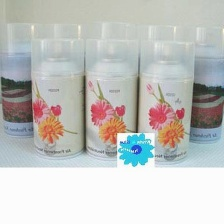aerosol_cans: (136, 37, 198, 167), (83, 36, 144, 162), (31, 33, 86, 164), (168, 19, 223, 145), (0, 16, 37, 139)
